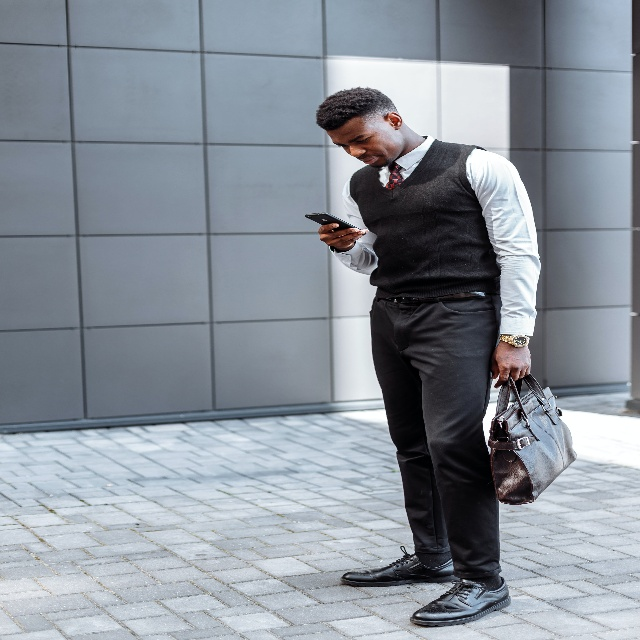Sin_guantes: (490, 338, 532, 387), (318, 217, 367, 255)
